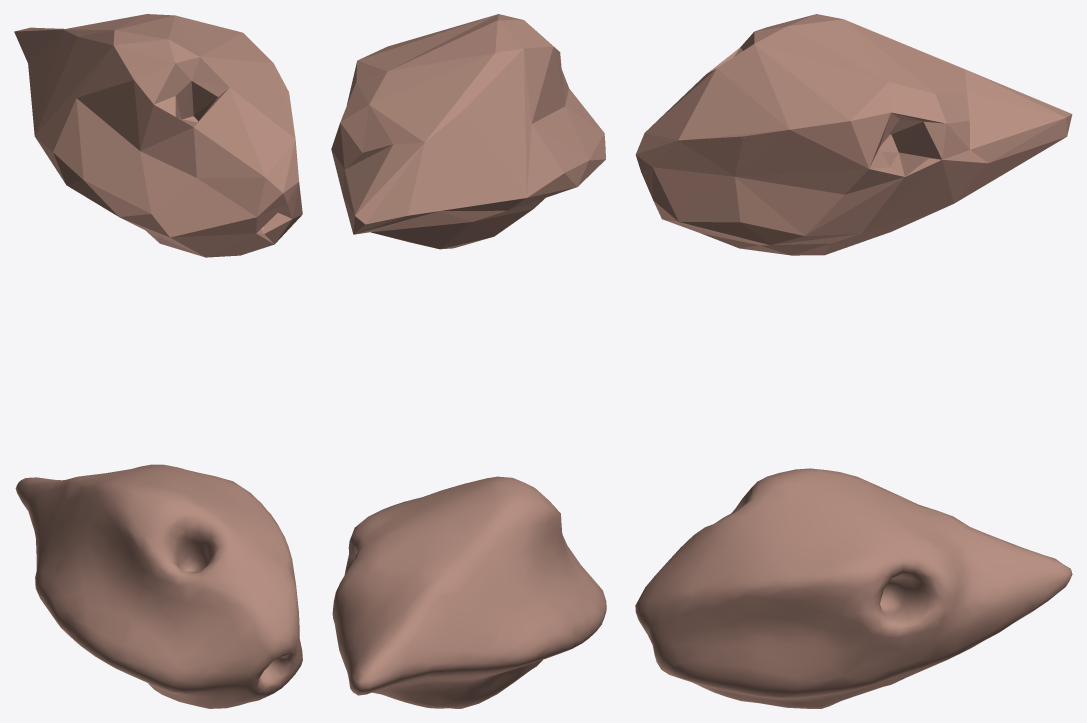
The model's file is Peuktuber.dae.
The picture shows the model from 3 angles, left to right: view 1: azimuth 30°, elevation 25°; view 2: azimuth 150°, elevation 25°; view 3: azimuth 270°, elevation 25°; orthographic projection. The views are drawn at different scales.
Parts seen in each view (by area): view 1: Peuktuber1Col, Peuktuber1; view 2: Peuktuber1, Peuktuber1Col; view 3: Peuktuber1Col, Peuktuber1.
Boxes of the visible parts, box(x1,y1,x2,y2) form: Peuktuber1Col: box(14, 14, 302, 257); Peuktuber1: box(15, 464, 302, 708); Peuktuber1: box(332, 476, 606, 708); Peuktuber1Col: box(331, 14, 605, 249); Peuktuber1Col: box(635, 14, 1072, 255); Peuktuber1: box(635, 468, 1072, 708).
Bounding box in the file's own units: 2.09 × 3.94 × 6.65.
